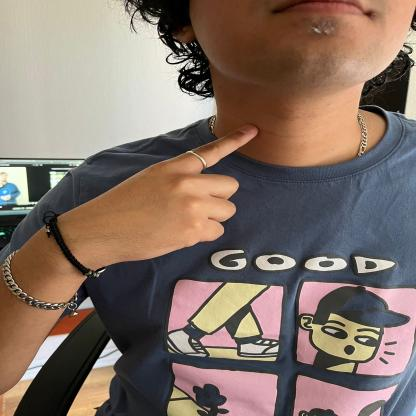Q: (68, 116, 265, 266)
